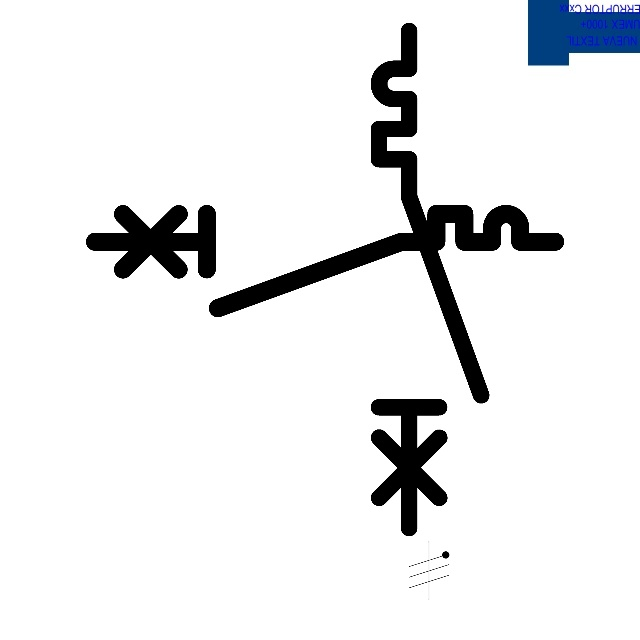interruptor_termomagnetico: (366, 18, 494, 541), (83, 202, 567, 320)
